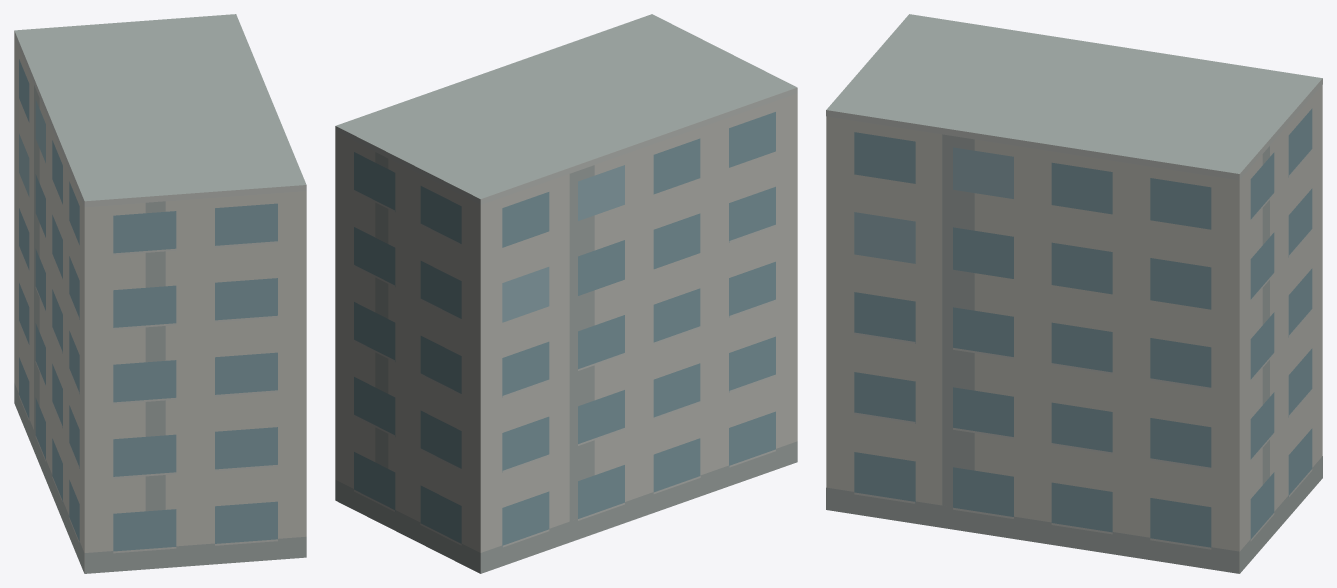
Rendered from residential-840997b8-1bd8-47b9-8b19-dc382542f814.glb.
The picture shows the model from 3 angles, left to right: view 1: azimuth 30°, elevation 25°; view 2: azimuth 150°, elevation 25°; view 3: azimuth 270°, elevation 25°; orthographic projection. The views are drawn at different scales.
Parts seen in each view (by area): view 1: residential-840997b8-1bd8-47b9-8b19-dc382542f814.tmp; view 2: residential-840997b8-1bd8-47b9-8b19-dc382542f814.tmp; view 3: residential-840997b8-1bd8-47b9-8b19-dc382542f814.tmp.
Boxes of the visible parts, left/top/right/bottom form: residential-840997b8-1bd8-47b9-8b19-dc382542f814.tmp: left=14, top=14, right=306, bottom=573; residential-840997b8-1bd8-47b9-8b19-dc382542f814.tmp: left=335, top=14, right=797, bottom=573; residential-840997b8-1bd8-47b9-8b19-dc382542f814.tmp: left=826, top=14, right=1322, bottom=573.
Size of the model in its own units: 13.1 by 15.25 by 17.18.
